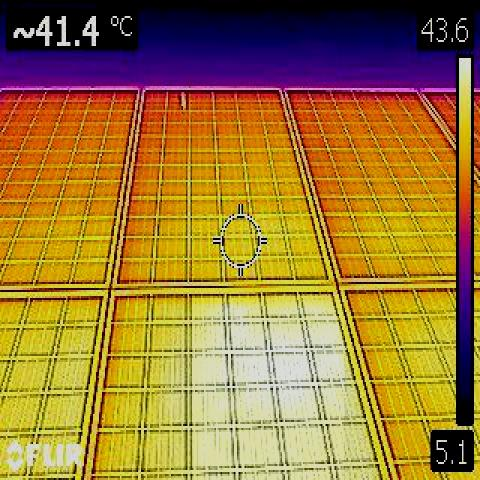fault: (192, 295, 344, 480)
